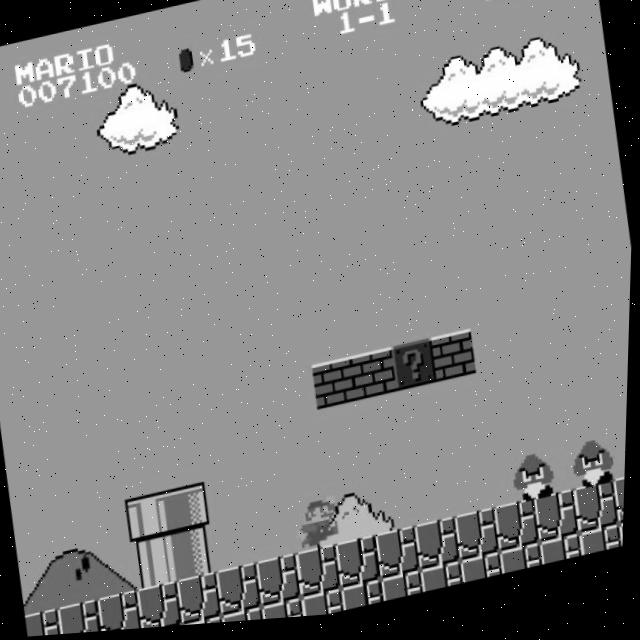1- brick_block: (312, 361, 362, 416), (431, 335, 481, 390), (352, 352, 401, 407)
11- little_mario: (294, 497, 345, 555)
13- mystery_block: (392, 344, 441, 399)
14- pipe: (172, 529, 221, 584), (133, 538, 182, 592)
15- pipe_head: (127, 493, 176, 548), (166, 485, 215, 540)
17- undestructible_block: (535, 497, 585, 552), (416, 523, 466, 577), (179, 574, 228, 629), (258, 557, 307, 612), (337, 540, 386, 595), (377, 531, 426, 586), (456, 514, 505, 569), (575, 488, 624, 543), (218, 566, 267, 620), (298, 549, 347, 603), (496, 506, 545, 560), (138, 582, 187, 631), (99, 591, 148, 633), (59, 600, 108, 636), (383, 576, 428, 608), (423, 567, 468, 599), (502, 550, 547, 582), (542, 542, 587, 574), (463, 559, 507, 591), (582, 533, 626, 565), (344, 585, 388, 616), (304, 593, 349, 621), (28, 608, 68, 637), (264, 602, 309, 624), (225, 610, 269, 626), (615, 482, 628, 534), (185, 619, 229, 628)
8- goomba: (510, 456, 561, 514), (570, 443, 621, 501)
